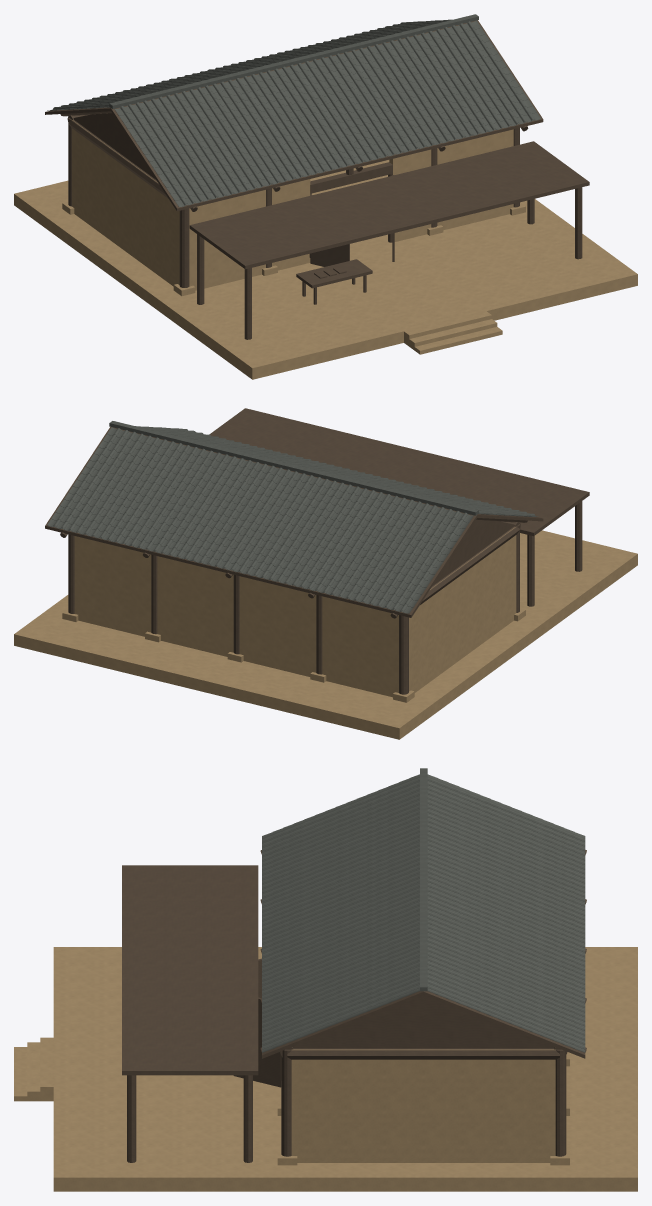
The model's file is wuku-A-LOD0.glb.
The picture shows the model from 3 angles, top to bottom: view 1: azimuth 30°, elevation 25°; view 2: azimuth 150°, elevation 25°; view 3: azimuth 270°, elevation 25°; orthographic projection. The views are drawn at different scales.
Parts seen in each view (by area): view 1: wuku-A-static_earth, wuku-A-static_tile, wuku-A-static_timber; view 2: wuku-A-static_earth, wuku-A-static_tile, wuku-A-static_timber; view 3: wuku-A-static_earth, wuku-A-static_tile, wuku-A-static_timber.
Part boxes in pixels (x1,y1,x2,y2): wuku-A-static_earth: (14, 120, 637, 379); wuku-A-static_tile: (47, 14, 540, 207); wuku-A-static_timber: (45, 20, 589, 339); wuku-A-static_earth: (14, 527, 637, 739); wuku-A-static_tile: (47, 421, 538, 613); wuku-A-static_timber: (45, 408, 589, 694); wuku-A-static_earth: (14, 947, 637, 1191); wuku-A-static_tile: (262, 768, 585, 1052); wuku-A-static_timber: (122, 850, 586, 1162).
Size of the model in its own units: 14 by 5.63 by 16.02.
3 materials, 3 textured.
